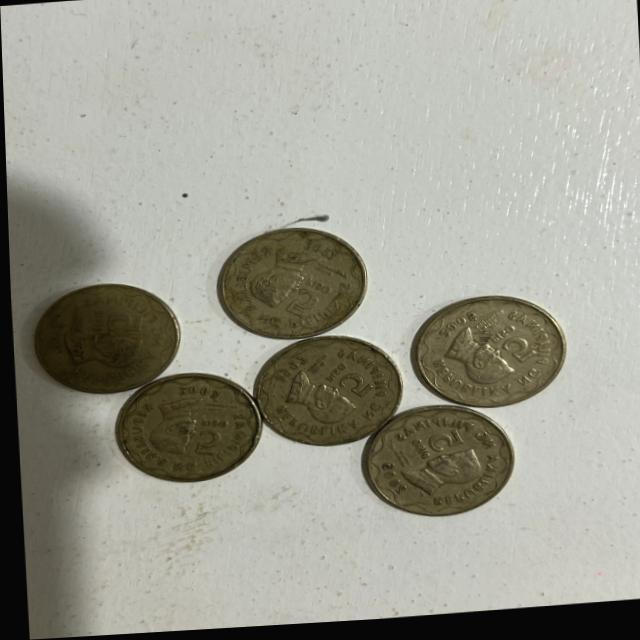5_Old_Front: (268, 279, 332, 327), (80, 307, 154, 346), (399, 429, 465, 469), (313, 358, 376, 399), (183, 415, 230, 463), (485, 331, 535, 370)
